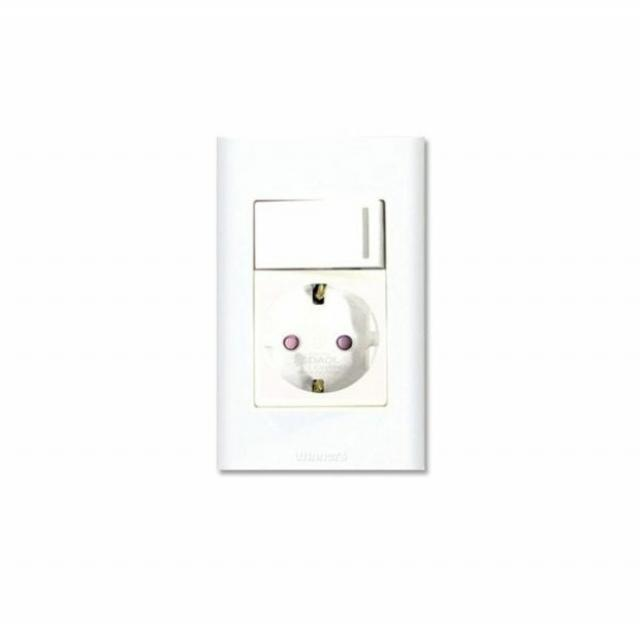typeb: (137, 102, 500, 510)
